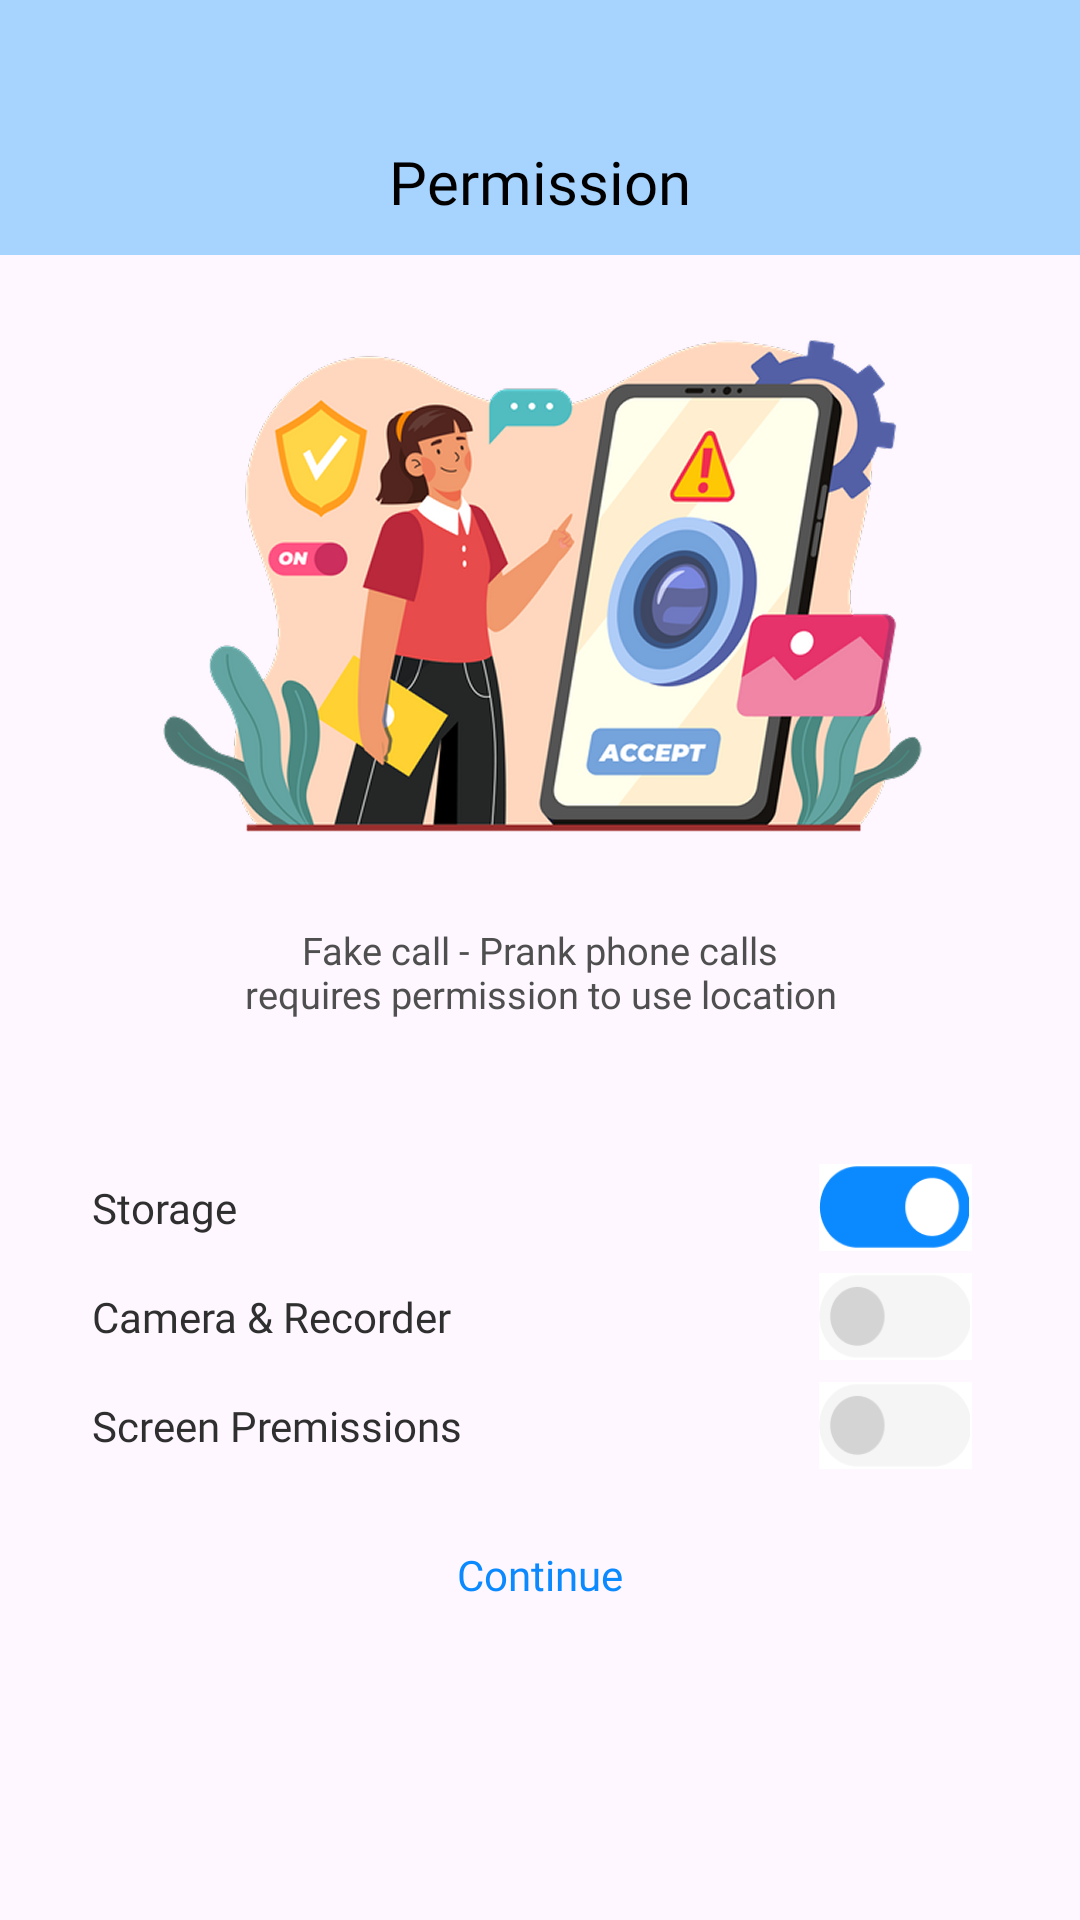

Where icons sit on this 1080 x 1920 app screen, as (x1, y1, x2, y2):
switch on: (819, 1166, 969, 1248)
